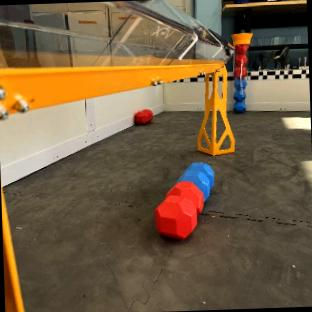V5_BLUE: (180, 162, 213, 199)
V5_RED: (156, 182, 203, 239), (232, 32, 251, 112), (135, 109, 153, 125)
